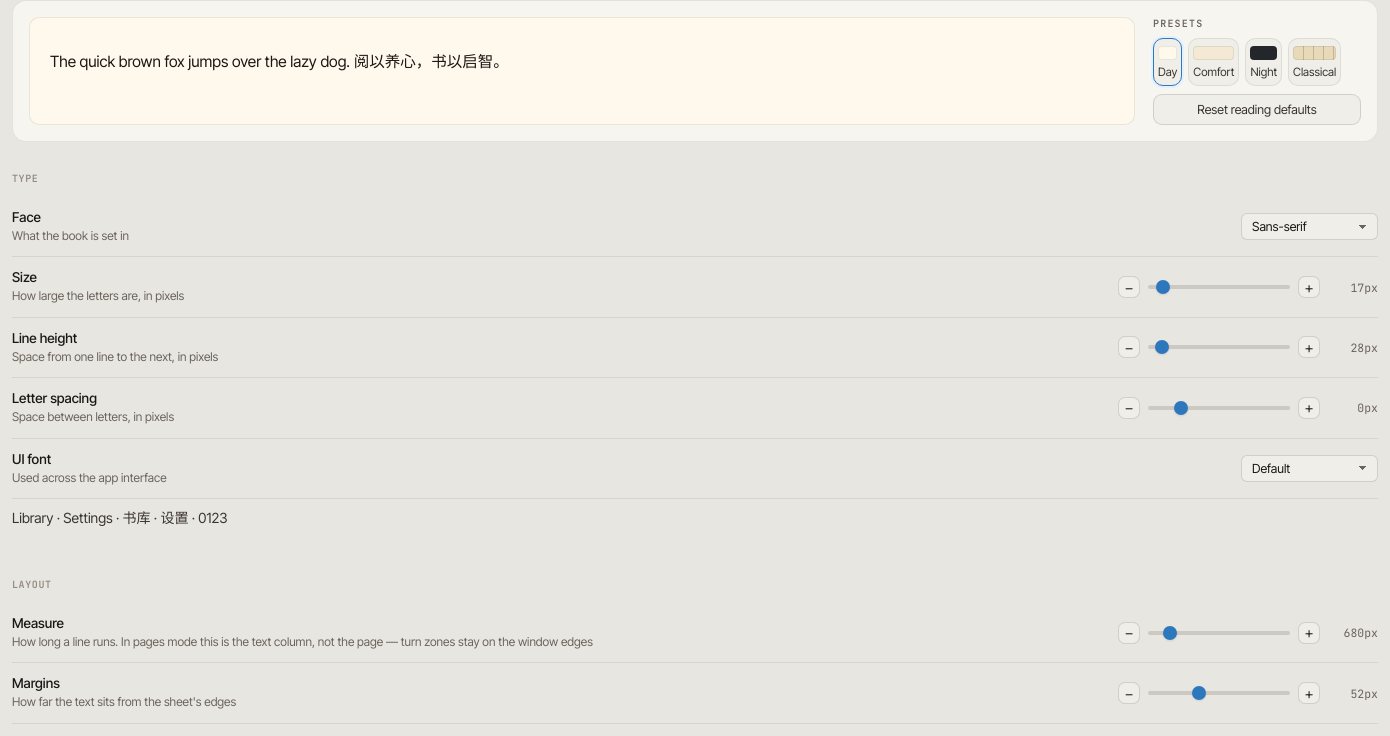
Test: resetting the reading settings › offers to reset a picked voice even when the rate is already 100%
Click the button with class "rs-hero-reset": (1257, 110) top-left (1153, 94), bottom-right (1361, 125)
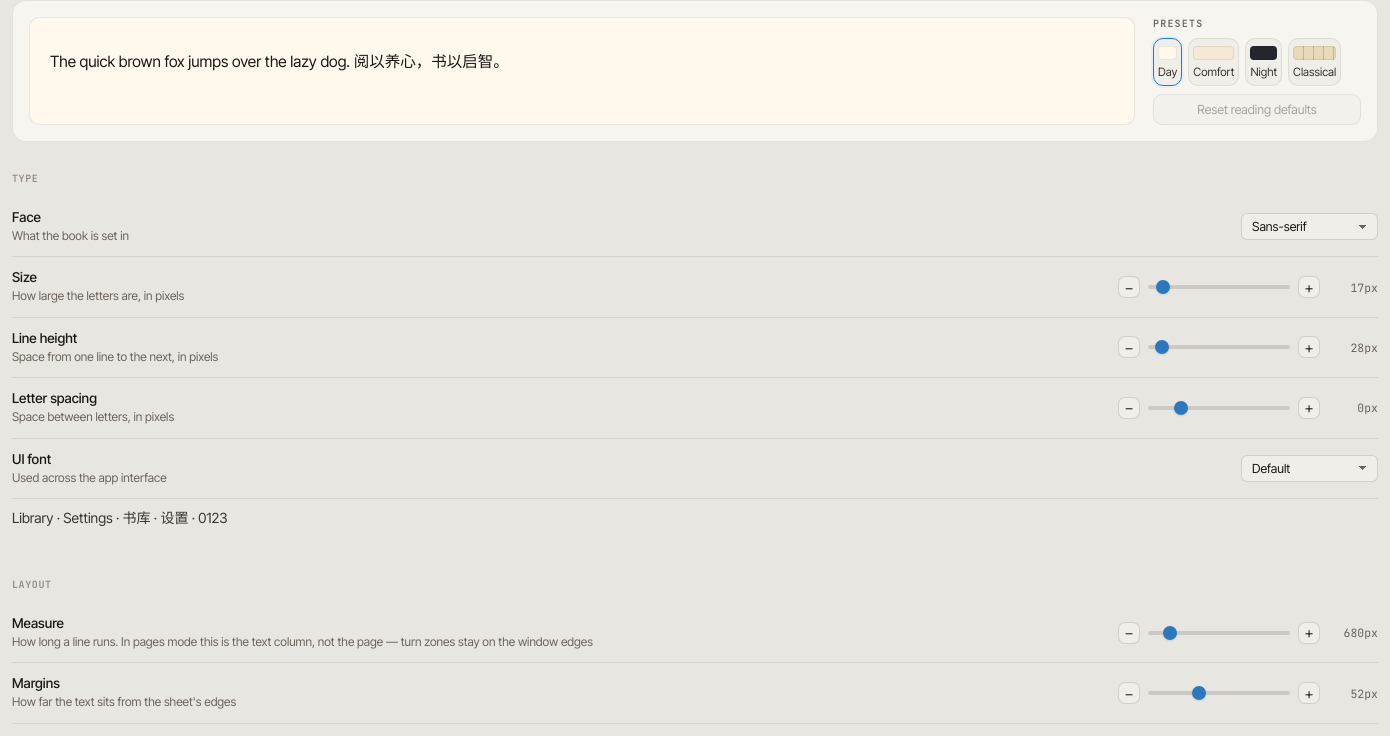
Now the button with class "rs-hero-reset" is disabled, box top-left (1153, 94), bottom-right (1361, 125)
